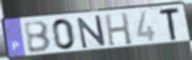0: (51, 18, 78, 52)
4: (136, 11, 157, 43)
B: (22, 20, 53, 55)
H: (103, 12, 134, 48)
N: (76, 14, 108, 50)
T: (159, 6, 182, 42)
